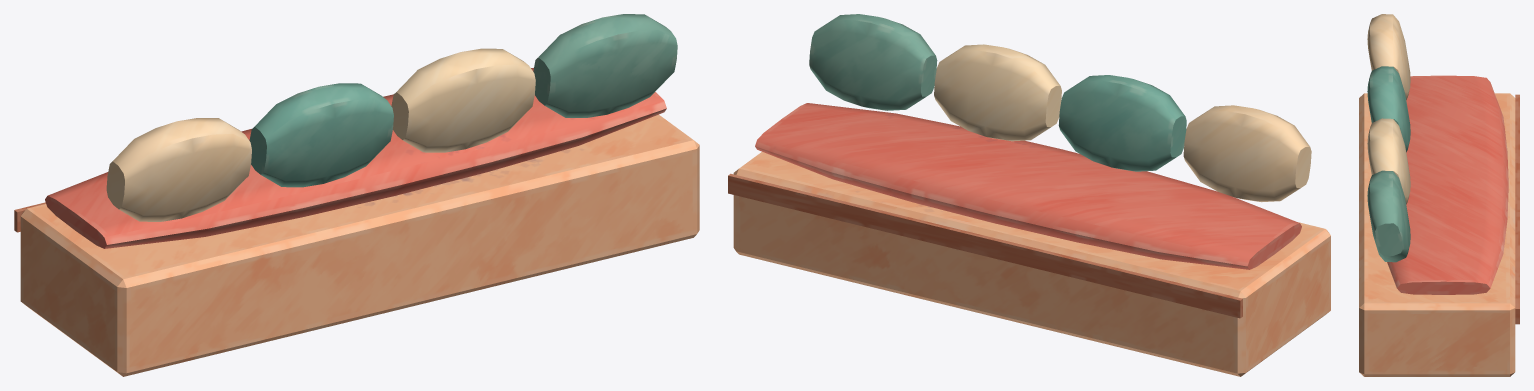
File: divan.fbx
3 renders of one model, left to right at view 1: azimuth 30°, elevation 25°; view 2: azimuth 150°, elevation 25°; view 3: azimuth 270°, elevation 25°, orthographic. The views are drawn at different scales.
Visible parts, largest first — view 1: divan; view 2: divan; view 3: divan.
Boxes of the visible parts, <box> form: divan: <box>14,14,699,376</box>; divan: <box>728,14,1330,376</box>; divan: <box>1359,14,1519,376</box>.
Size of the model in its own units: 7.8 by 2.88 by 2.47.
Materials: 1 (1 with a texture image).
